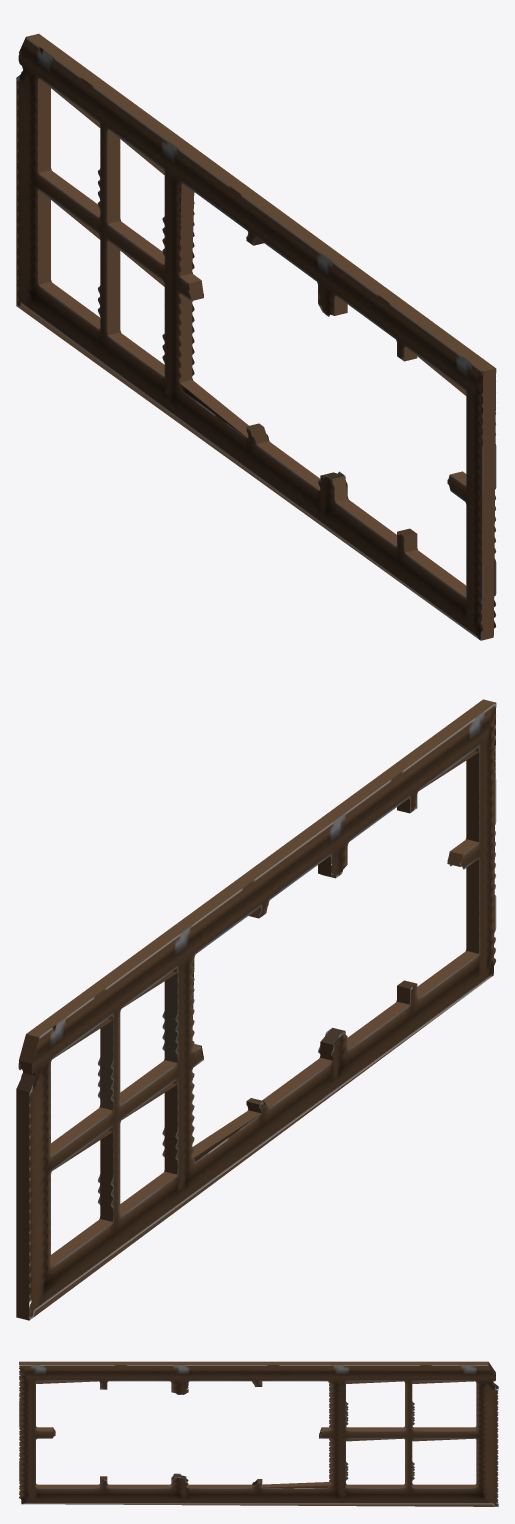
The model's file is pz_native_fixtures_windows_wood_78_frame.obj.
3 renders of one model, top to bottom at view 1: azimuth 30°, elevation 25°; view 2: azimuth 150°, elevation 25°; view 3: azimuth 270°, elevation 25°, orthographic. The views are drawn at different scales.
Parts seen in each view (by area): view 1: pz_native_fixtures_windows_wood_78_frame; view 2: pz_native_fixtures_windows_wood_78_frame; view 3: pz_native_fixtures_windows_wood_78_frame.
Boxes of the visible parts, left/top/right/bottom form: pz_native_fixtures_windows_wood_78_frame: left=16, top=33, right=496, bottom=640; pz_native_fixtures_windows_wood_78_frame: left=16, top=699, right=496, bottom=1320; pz_native_fixtures_windows_wood_78_frame: left=19, top=1361, right=498, bottom=1506.
Size of the model in its own units: 0.04 by 0.8594 by 2.53.
Materials: 1 (1 with a texture image).
